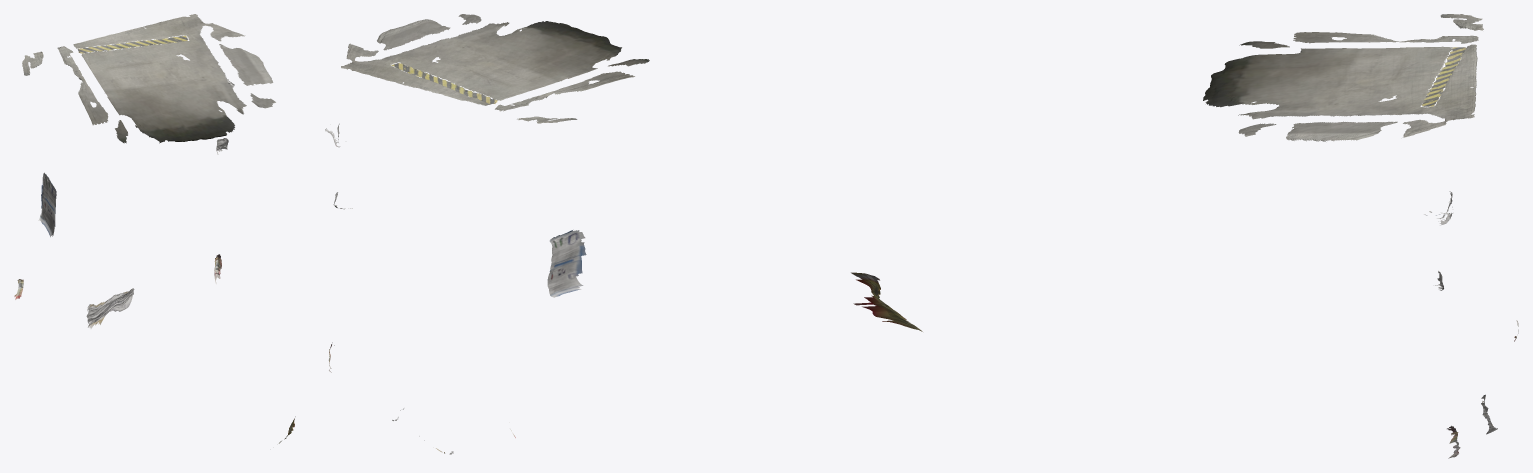
File: object-extras.glb
The picture shows the model from 3 angles, left to right: view 1: azimuth 30°, elevation 25°; view 2: azimuth 150°, elevation 25°; view 3: azimuth 270°, elevation 25°; orthographic projection. The views are drawn at different scales.
Visible parts, largest first — view 1: work-platform-1-photo-1-0, sign-7-photo-2-0, sign-8-photo-2-0, floor-marking-10-photo-1-0; view 2: work-platform-1-photo-1-0, sign-8-photo-2-0, floor-marking-10-photo-1-0; view 3: work-platform-1-photo-1-0, sign-5-photo-1-0.
Boxes of the visible parts, left/top/right/bottom form: work-platform-1-photo-1-0: left=22, top=14, right=275, bottom=143; sign-7-photo-2-0: left=86, top=288, right=134, bottom=328; sign-8-photo-2-0: left=38, top=172, right=56, bottom=237; floor-marking-10-photo-1-0: left=77, top=35, right=188, bottom=53; work-platform-1-photo-1-0: left=341, top=14, right=649, bottom=123; sign-8-photo-2-0: left=547, top=230, right=586, bottom=297; floor-marking-10-photo-1-0: left=391, top=63, right=497, bottom=104; work-platform-1-photo-1-0: left=1203, top=14, right=1483, bottom=141; sign-5-photo-1-0: left=851, top=272, right=922, bottom=331.
Bounding box in the file's own units: 3.77 × 5.11 × 8.29.
